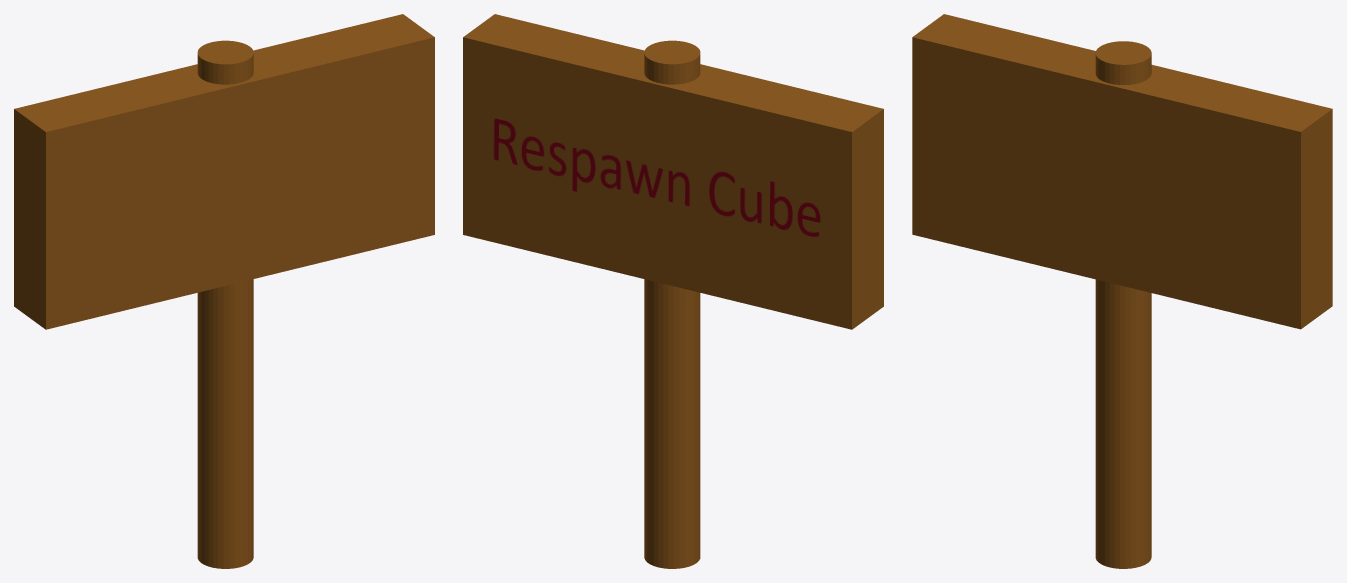
The model's file is signRespawnCube.fbx.
The picture shows the model from 3 angles, left to right: view 1: azimuth 30°, elevation 25°; view 2: azimuth 150°, elevation 25°; view 3: azimuth 330°, elevation 25°; orthographic projection.
Visible parts, largest first — view 1: Cube.010, Cylinder.010; view 2: Cube.010, Cylinder.010; view 3: Cube.010, Cylinder.010.
Boxes of the visible parts, x1=… form: Cube.010: x1=14, y1=14, x2=434, y2=329; Cylinder.010: x1=197, y1=40, x2=253, y2=568; Cube.010: x1=463, y1=14, x2=883, y2=329; Cylinder.010: x1=644, y1=40, x2=700, y2=568; Cube.010: x1=912, y1=14, x2=1332, y2=329; Cylinder.010: x1=1095, y1=41, x2=1151, y2=568.
Size of the model in its own units: 0.5827 by 4.12 by 5.11.
2 materials, 1 textured.
